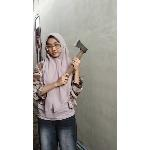Kapak: (60, 36, 90, 80)
